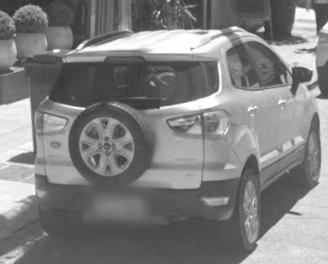car: (33, 27, 322, 251)
